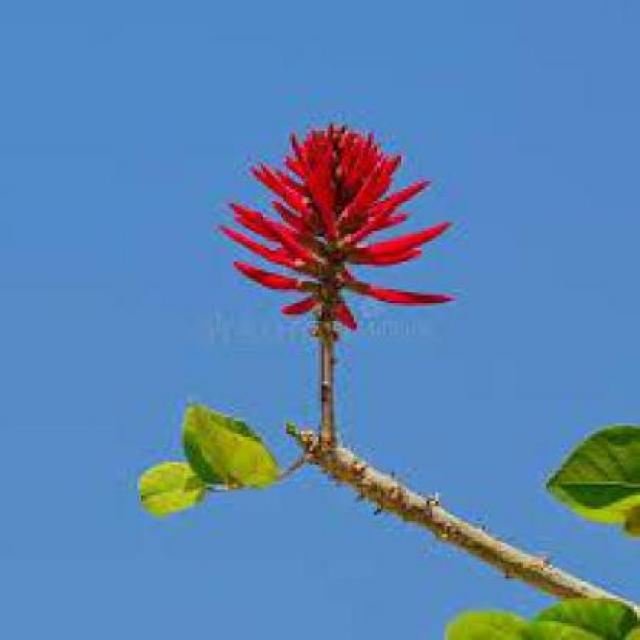flower: (225, 121, 448, 333)
